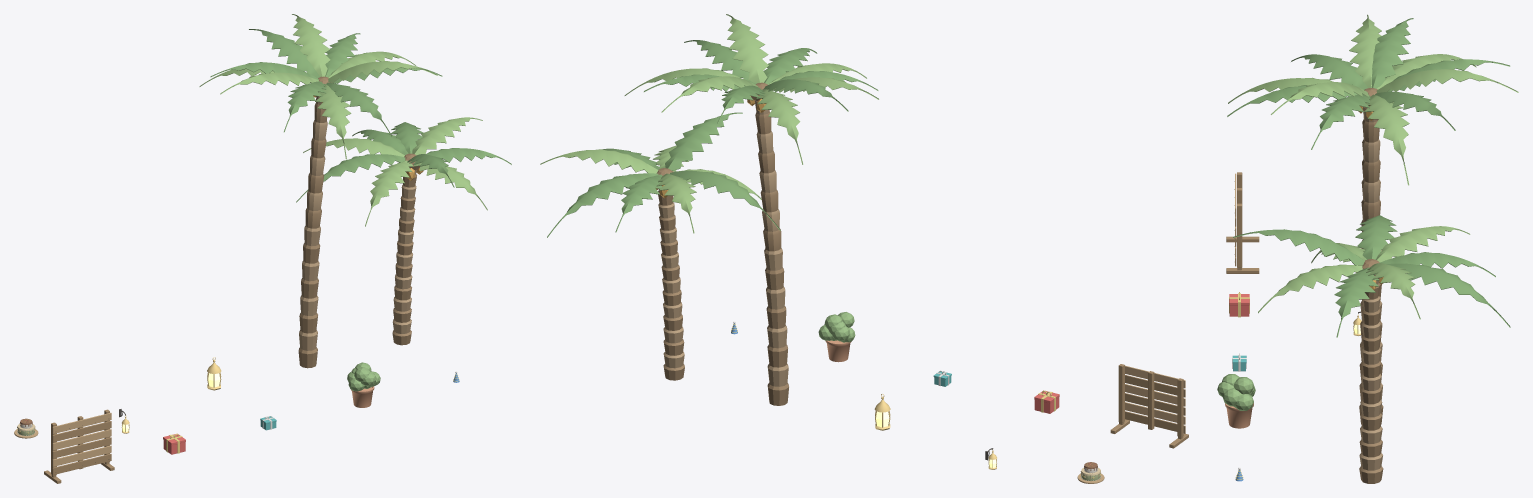
Rendered from courtyard.glb.
3 renders of one model, left to right at view 1: azimuth 30°, elevation 25°; view 2: azimuth 150°, elevation 25°; view 3: azimuth 270°, elevation 25°, orthographic. The views are drawn at different scales.
Parts seen in each view (by area): view 1: palm_mesh, palm_small_mesh, pallet_board_mesh, pot_plant_mesh; view 2: palm_mesh, palm_small_mesh, pallet_board_mesh, pot_plant_mesh; view 3: palm_mesh, palm_small_mesh, pot_plant_mesh, pallet_board_mesh, gift_a_mesh.
Boxes of the visible parts, box(x1,y1,x2,y2) form: palm_mesh: box(199, 14, 442, 368); palm_small_mesh: box(296, 117, 511, 345); pallet_board_mesh: box(44, 409, 114, 483); pot_plant_mesh: box(347, 362, 380, 407); palm_mesh: box(624, 14, 878, 405); palm_small_mesh: box(540, 112, 780, 380); pallet_board_mesh: box(1110, 364, 1188, 448); pot_plant_mesh: box(818, 312, 855, 362); palm_mesh: box(1227, 14, 1518, 424); palm_small_mesh: box(1233, 215, 1510, 483); pot_plant_mesh: box(1217, 374, 1255, 428); pallet_board_mesh: box(1226, 172, 1259, 273); gift_a_mesh: box(1229, 292, 1249, 317).
Size of the model in its own units: 10.77 by 6.61 by 4.58.
